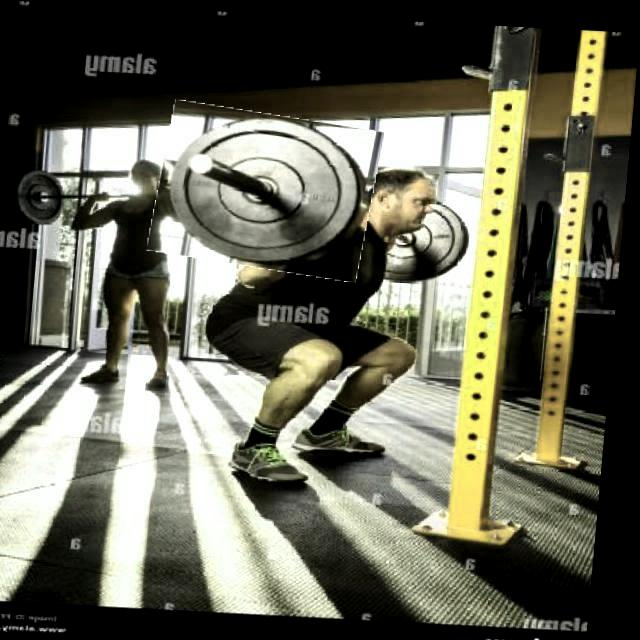barbell: (153, 103, 385, 275)
